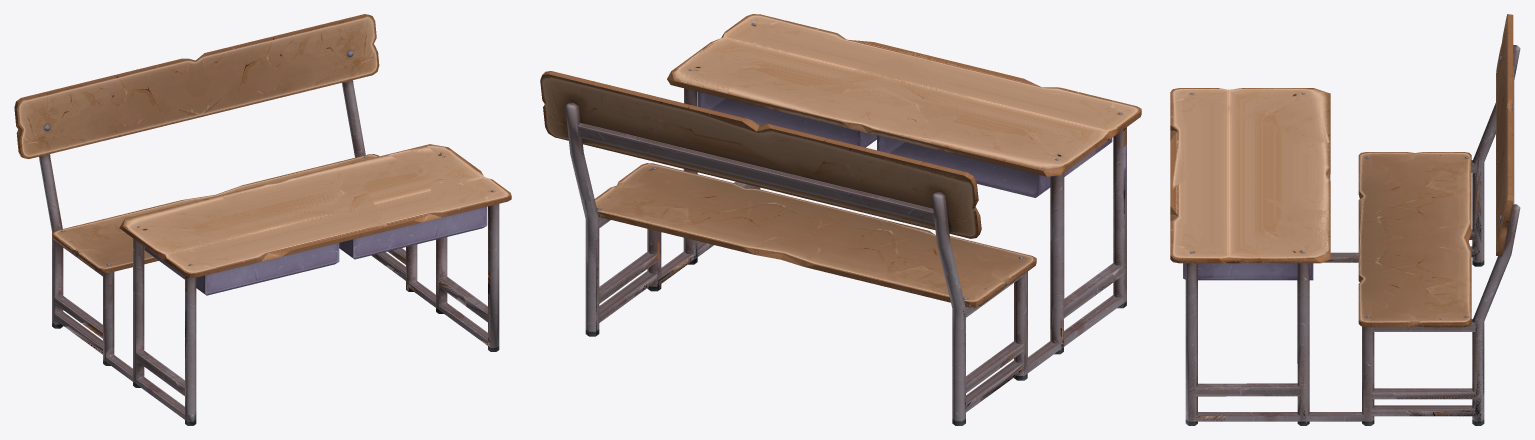
The model's file is mesa.glb.
3 views of the same model, side by side, from view 1: azimuth 30°, elevation 25°; view 2: azimuth 150°, elevation 25°; view 3: azimuth 270°, elevation 25° (orthographic). The views are drawn at different scales.
Visible parts, largest first — view 1: Object_35, Object_35_cell.028, Object_35_cell.028_cell.006, Object_35_cell.028_cell.005, Object_35_cell.001, Object_35_cell.028_cell.004, Object_35_cell.002, Object_35_cell.014, Object_35_cell.058, Object_35_cell.020, Object_35_cell.008, Object_35_cell.028_cell (+4 smaller); view 2: Object_35, Object_35_cell.028, Object_35_cell.028_cell.006, Object_35_cell.022, Object_35_cell.009, Object_35_cell.015, Object_35_cell.001, Object_35_cell.028_cell.004, Object_35_cell.022_cell.002, Object_35_cell.055, Object_35_cell.030, Object_35_cell.007 (+20 smaller); view 3: Object_35, Object_35_cell.028, Object_35_cell.028_cell.005, Object_35_cell.038, Object_35_cell.028_cell.004, Object_35_cell.049, Object_35_cell.010, Object_35_cell.002, Object_35_cell.020, Object_35_cell.028_cell.003, Object_35_cell.014, Object_35_cell.028_cell (+5 smaller).
Part boxes in pixels (x1,y1,x2,y2): Object_35: (14,14,507,425); Object_35_cell.028: (123,144,511,277); Object_35_cell.028_cell.006: (221,171,387,231); Object_35_cell.028_cell.005: (123,204,268,267); Object_35_cell.001: (145,243,339,294); Object_35_cell.028_cell.004: (414,171,504,224); Object_35_cell.002: (386,237,466,316); Object_35_cell.014: (348,207,487,257); Object_35_cell.058: (176,276,196,416); Object_35_cell.020: (464,266,499,351); Object_35_cell.008: (103,334,196,425); Object_35_cell.028_cell: (180,227,372,277); Object_35: (542,24,1141,425); Object_35_cell.028: (667,14,1141,176); Object_35_cell.028_cell.006: (771,50,972,143); Object_35_cell.022: (814,139,981,238); Object_35_cell.009: (690,109,827,203); Object_35_cell.015: (595,86,700,171); Object_35_cell.001: (877,135,1074,197); Object_35_cell.028_cell.004: (713,14,843,58); Object_35_cell.022_cell.002: (813,136,906,222); Object_35_cell.055: (819,185,953,276); Object_35_cell.030: (551,75,613,151); Object_35_cell.007: (747,109,857,141); Object_35: (1176,14,1520,425); Object_35_cell.028: (1170,88,1330,263); Object_35_cell.028_cell.005: (1195,88,1330,142); Object_35_cell.038: (1392,311,1487,425); Object_35_cell.028_cell.004: (1170,208,1252,263); Object_35_cell.049: (1469,144,1490,266); Object_35_cell.010: (1358,172,1399,239); Object_35_cell.002: (1257,341,1409,425); Object_35_cell.020: (1185,335,1248,425); Object_35_cell.028_cell.003: (1263,231,1330,251); Object_35_cell.014: (1183,263,1313,280); Object_35_cell.028_cell: (1170,88,1197,184).
Bounding box in the file's own units: 9.46 × 5.61 × 7.44.
1 material, 1 textured.
